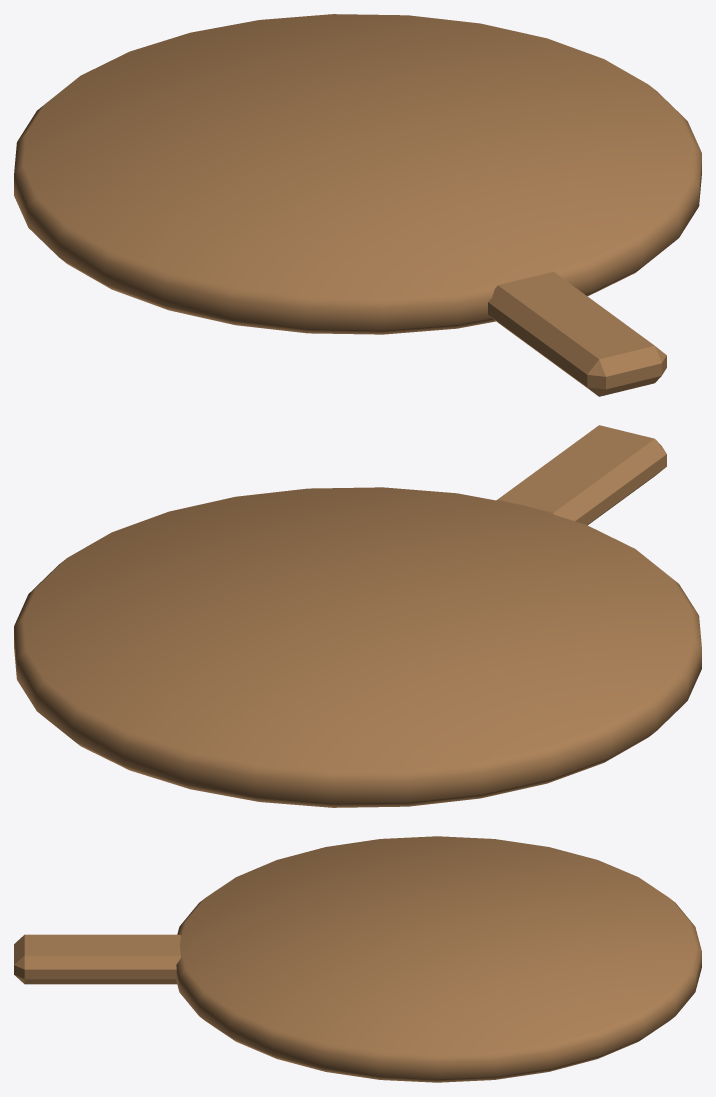
The model's file is i_board_1.glb.
3 views of the same model, one above another, from view 1: azimuth 30°, elevation 25°; view 2: azimuth 150°, elevation 25°; view 3: azimuth 270°, elevation 25° (orthographic). The views are drawn at different scales.
Parts seen in each view (by area): view 1: o, o.001; view 2: o, o.001; view 3: o, o.001.
Part boxes in pixels (x1,y1,x2,y2): o: [14, 14, 701, 334]; o.001: [488, 271, 666, 396]; o: [14, 487, 701, 807]; o.001: [496, 425, 666, 525]; o: [176, 836, 701, 1082]; o.001: [14, 934, 181, 984].
Size of the model in its own units: 0.3 by 0.018 by 0.39.
